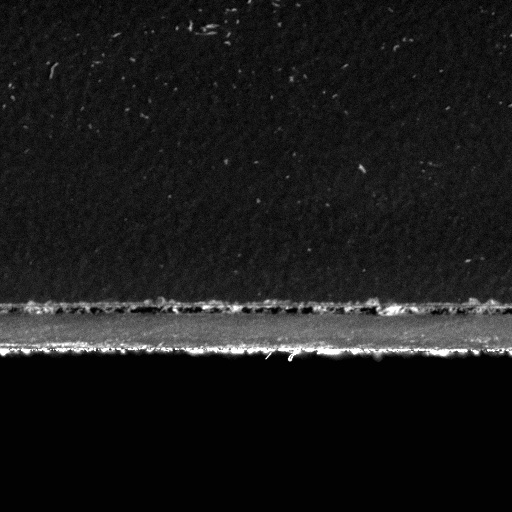jiaofeng: (57, 300, 202, 320), (243, 300, 377, 319), (429, 302, 511, 321)
